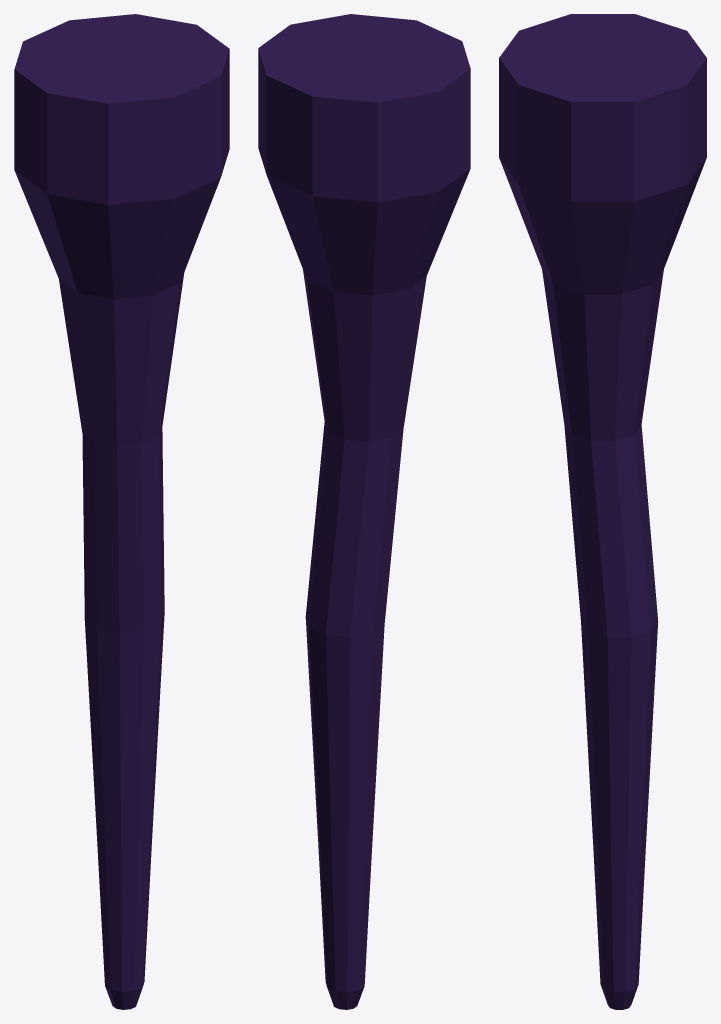
Rendered from stalactite_008_grp.fbx.
3 renders of one model, left to right at view 1: azimuth 30°, elevation 25°; view 2: azimuth 150°, elevation 25°; view 3: azimuth 270°, elevation 25°, orthographic.
Parts seen in each view (by area): view 1: stalactite_008_grp; view 2: stalactite_008_grp; view 3: stalactite_008_grp.
Part boxes in pixels (box(x1,y1,x2,y2)): stalactite_008_grp: box(14, 14, 229, 1009); stalactite_008_grp: box(258, 14, 470, 1009); stalactite_008_grp: box(499, 14, 706, 1009).
Size of the model in its own units: 100 by 500 by 100.
